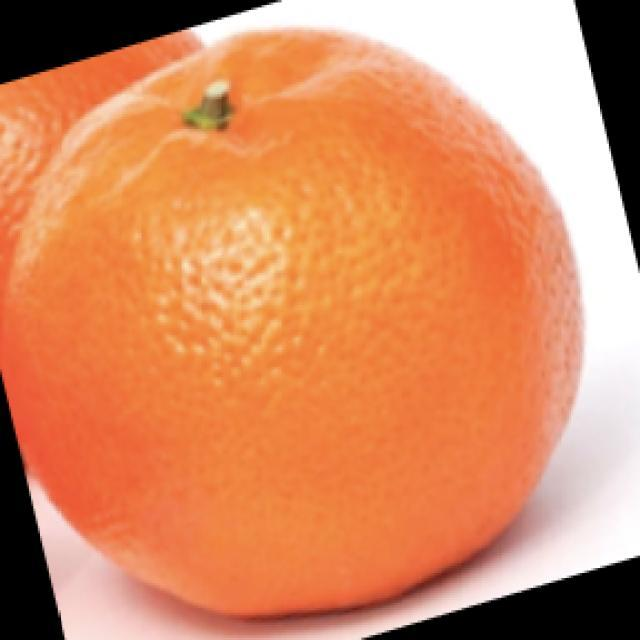matang: (3, 30, 581, 614)
